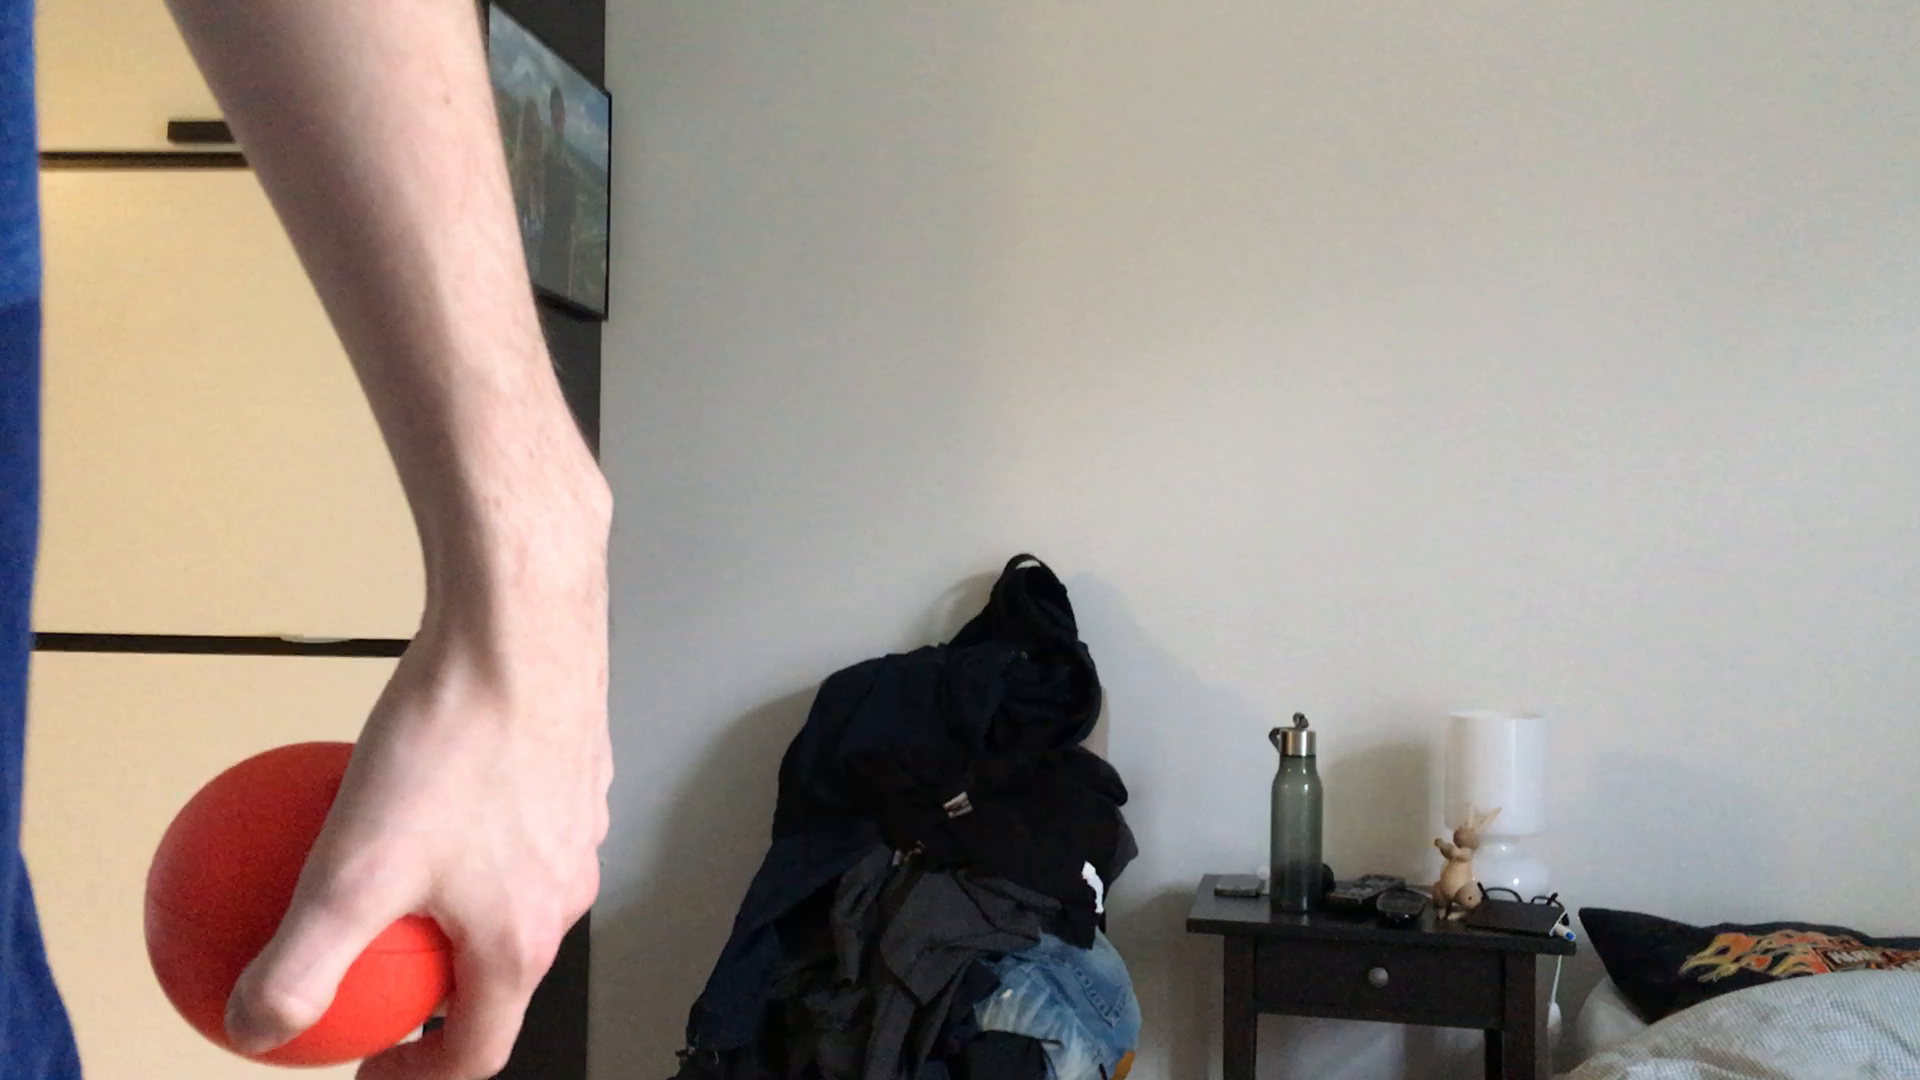Ball: (146, 738, 487, 1065)
